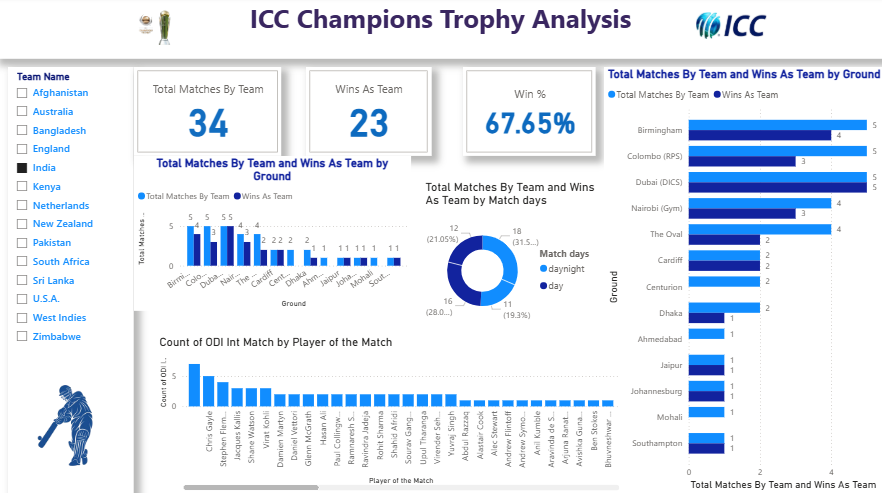

This screenshot's page, from the dashboard's own definition file:
{"tool":"powerbi","page":{"name":"Team Performance","canvas":[1280,720],"ordinal":0},"visuals":[{"type":"textbox","box":[0,0,1280,89],"z":0},{"type":"image","box":[174.2,0,112.3,82.1],"z":1000},{"type":"image","box":[1002.2,17.3,113.8,47.5],"z":2000},{"type":"slicer","fields":{"Values":["Player.Team"]},"box":[17.3,100.8,181.4,619.2],"z":3000},{"type":"cardVisual","fields":{"Data":["Matches.Total Matches By Team"]},"box":[198.4,100.1,212.5,128.2],"z":4000},{"type":"cardVisual","fields":{"Data":["Matches.Wins As Team"]},"box":[446,100.1,180.9,128.2],"z":5000},{"type":"cardVisual","fields":{"Data":["Matches.Win %"]},"box":[672.5,100.1,191.4,128.2],"z":6000},{"type":"clusteredColumnChart","fields":{"Category":["Matches.Ground"],"Y":["Matches.Total Matches By Team","Matches.Wins As Team"]},"box":[198.4,228.3,398.6,223],"z":7000},{"type":"clusteredBarChart","fields":{"Category":["Matches.Ground"],"Y":["Matches.Total Matches By Team","Matches.Wins As Team"]},"box":[876.2,100.1,403.8,614.5],"z":8000},{"type":"donutChart","fields":{"Y":["Matches.Total Matches By Team","Matches.Wins As Team"],"Category":["Matches.Match days"]},"box":[613.4,263.5,262.1,223.2],"z":9000},{"type":"columnChart","fields":{"Category":["Matches.Player of the Match"],"Y":["Matches.ODI Int Match"]},"box":[230.6,486.3,672.2,228.8],"z":10000},{"type":"image","box":[0,518.4,198.7,197.3],"z":11000}]}

Visuals, with their boxes in screenshot pixels (x1, y1, x2, y2), scaled from the page's 1280x720 canvas onto the 882x493 screenshot:
textbox: x1=0, y1=0, x2=881, y2=61
image: x1=120, y1=0, x2=197, y2=56
image: x1=691, y1=12, x2=769, y2=44
slicer - Player.Team: x1=12, y1=69, x2=137, y2=492
cardVisual - Matches.Total Matches By Team: x1=137, y1=69, x2=283, y2=156
cardVisual - Matches.Wins As Team: x1=307, y1=69, x2=432, y2=156
cardVisual - Matches.Win %: x1=463, y1=69, x2=595, y2=156
clusteredColumnChart - Matches.Ground x Matches.Total Matches By Team: x1=137, y1=156, x2=411, y2=309
clusteredBarChart - Matches.Ground x Matches.Total Matches By Team: x1=604, y1=69, x2=881, y2=489
donutChart - Matches.Total Matches By Team x Matches.Wins As Team: x1=423, y1=180, x2=603, y2=333
columnChart - Matches.Player of the Match x Matches.ODI Int Match: x1=159, y1=333, x2=622, y2=490
image: x1=0, y1=355, x2=137, y2=490
